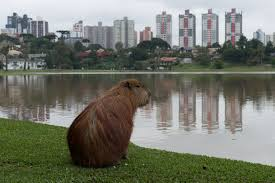capivara: (66, 79, 151, 168)
